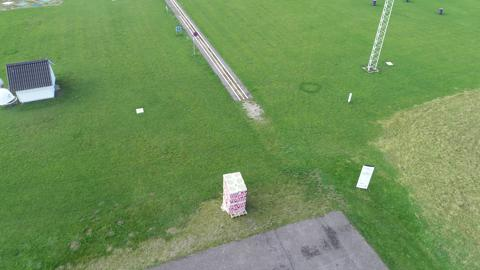RockwoolPallet: (222, 171, 249, 217)
